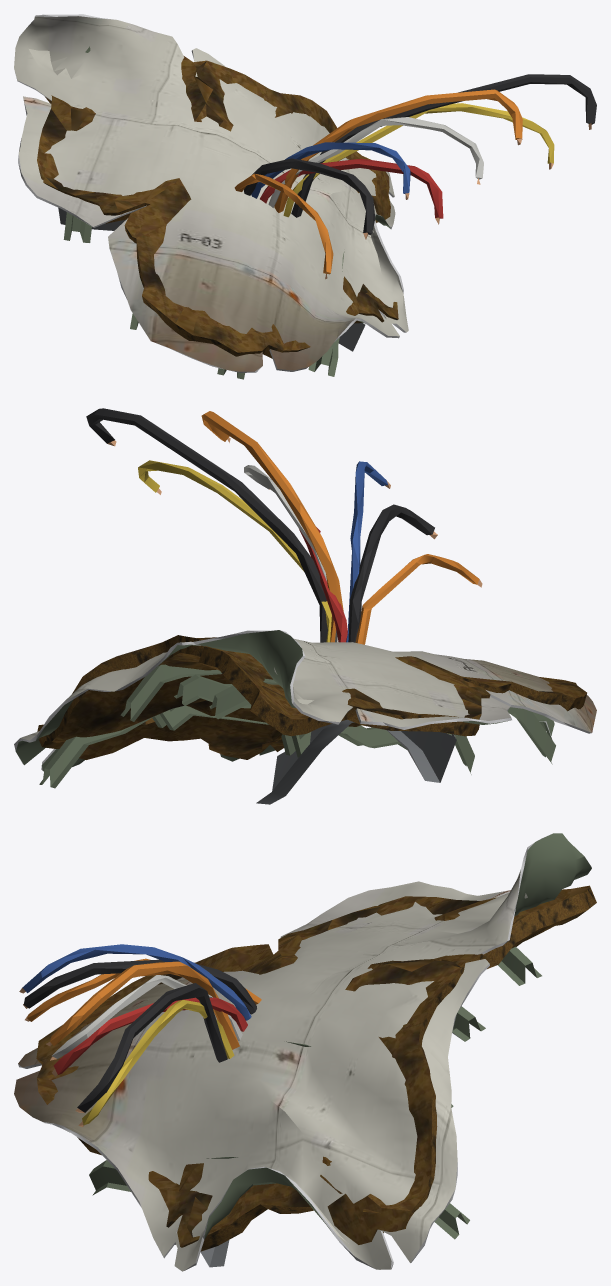
Rendered from capsule_impact_fragment_lod1.glb.
The picture shows the model from 3 angles, top to bottom: view 1: azimuth 30°, elevation 25°; view 2: azimuth 150°, elevation 25°; view 3: azimuth 270°, elevation 25°; orthographic projection. The views are drawn at different scales.
Visible parts, largest first — view 1: capsule_impact_fragment; view 2: capsule_impact_fragment; view 3: capsule_impact_fragment.
Part boxes in pixels (left/top/right/bottom): capsule_impact_fragment: left=14, top=14, right=596, bottom=379; capsule_impact_fragment: left=14, top=408, right=596, bottom=804; capsule_impact_fragment: left=14, top=833, right=596, bottom=1271.
Bounding box in the file's own units: 1.16 × 0.6709 × 1.06.
Materials: 13 (2 with a texture image).
